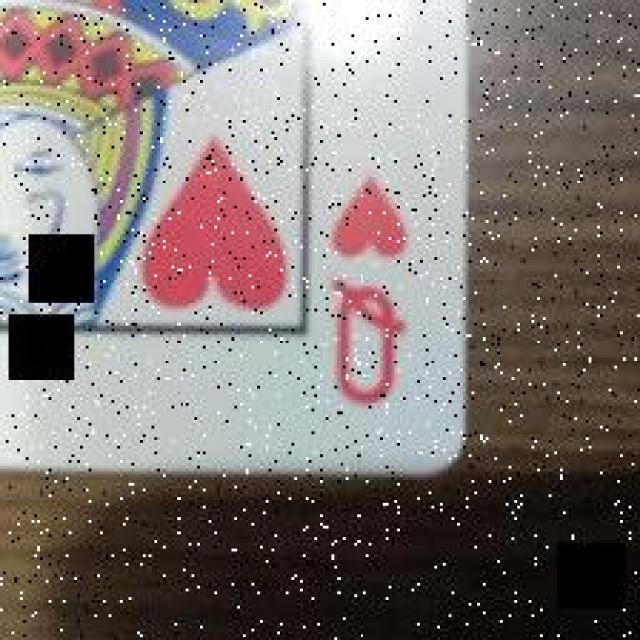Queen of hearts: (0, 0, 465, 474)
